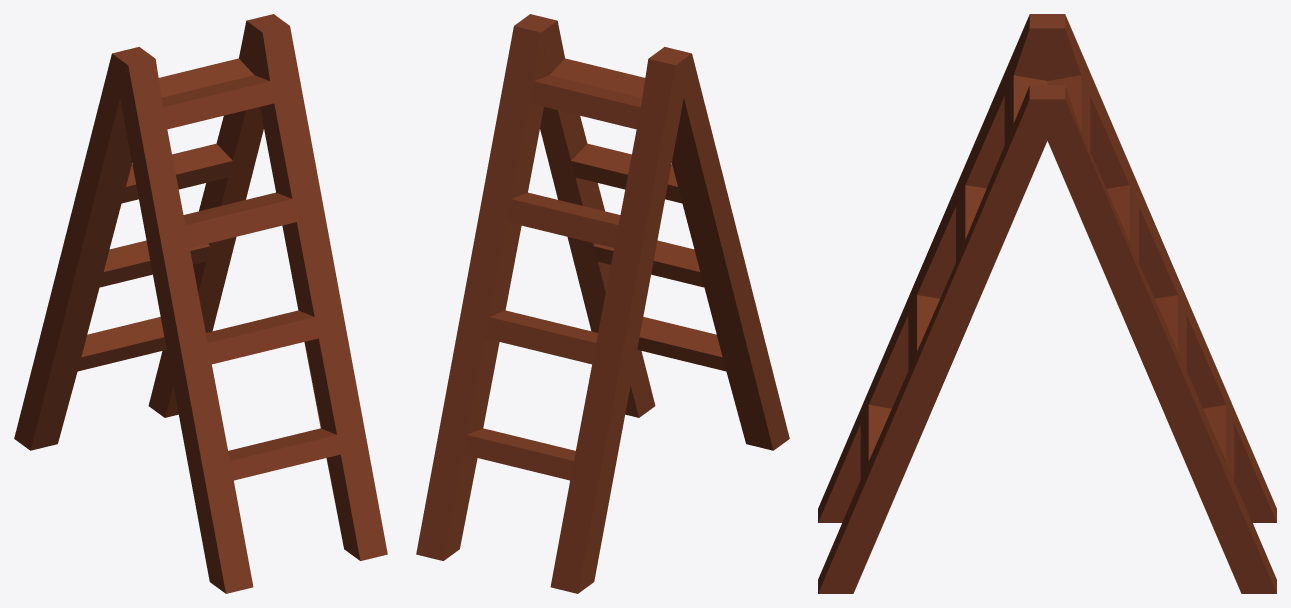
File: Stairs.fbx
3 renders of one model, left to right at view 1: azimuth 30°, elevation 25°; view 2: azimuth 150°, elevation 25°; view 3: azimuth 270°, elevation 25°, orthographic. The views are drawn at different scales.
Visible parts, largest first — view 1: Stairs; view 2: Stairs; view 3: Stairs.
Boxes of the visible parts, left/top/right/bottom form: Stairs: left=14, top=14, right=387, bottom=593; Stairs: left=416, top=14, right=789, bottom=593; Stairs: left=818, top=14, right=1276, bottom=593.
Bounding box in the file's own units: 24.07 × 64.98 × 54.63.
